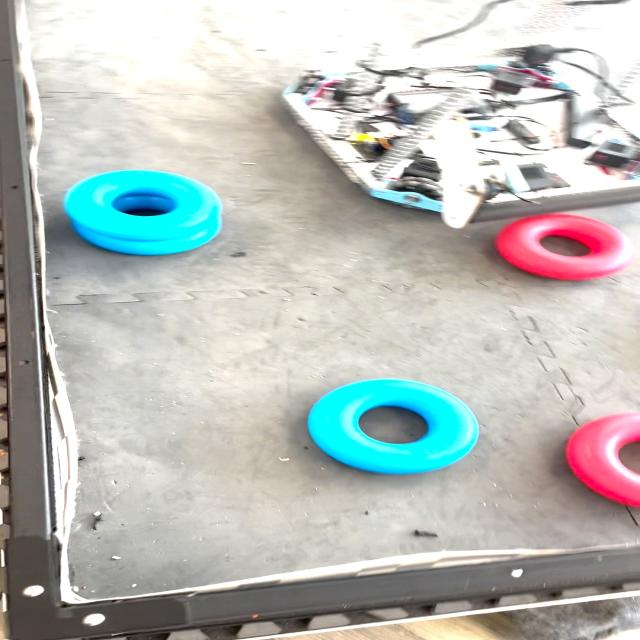Blue-Ring: (309, 379, 478, 474), (64, 170, 220, 240), (71, 218, 220, 255)
Red-Ring: (496, 214, 636, 280), (567, 412, 640, 508)
